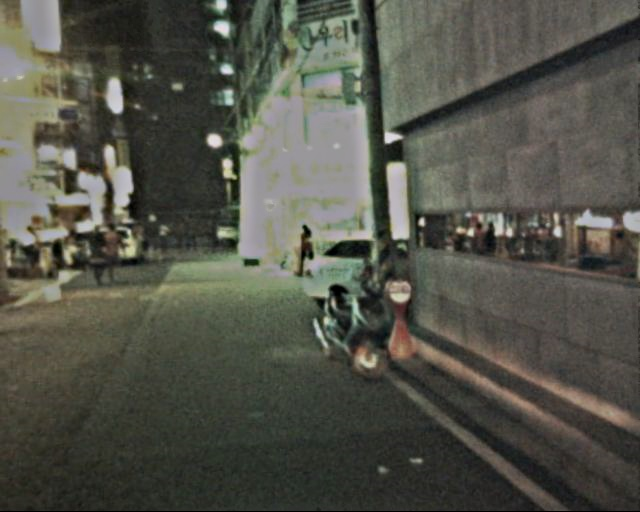person: (160, 215, 215, 251), (85, 223, 111, 287), (101, 223, 126, 284), (291, 223, 317, 281), (140, 212, 164, 265), (124, 217, 147, 264)
